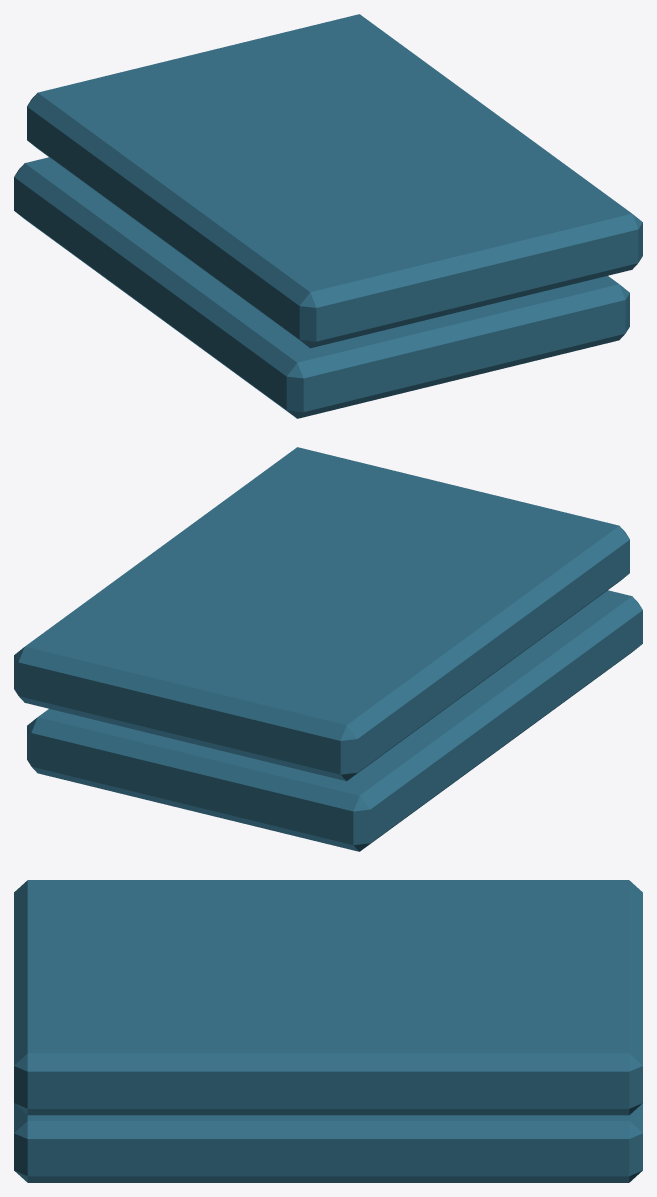
Rendered from set_index_card_box.glb.
3 renders of one model, top to bottom at view 1: azimuth 30°, elevation 25°; view 2: azimuth 150°, elevation 25°; view 3: azimuth 270°, elevation 25°, orthographic. The views are drawn at different scales.
Parts seen in each view (by area): view 1: set_index_card_box; view 2: set_index_card_box; view 3: set_index_card_box.
Part boxes in pixels (x1=…): set_index_card_box: x1=14, y1=14, x2=642, y2=418; set_index_card_box: x1=14, y1=447, x2=642, y2=851; set_index_card_box: x1=14, y1=880, x2=642, y2=1182.
Bounding box in the file's own units: 0.166 × 0.055 × 0.23.
